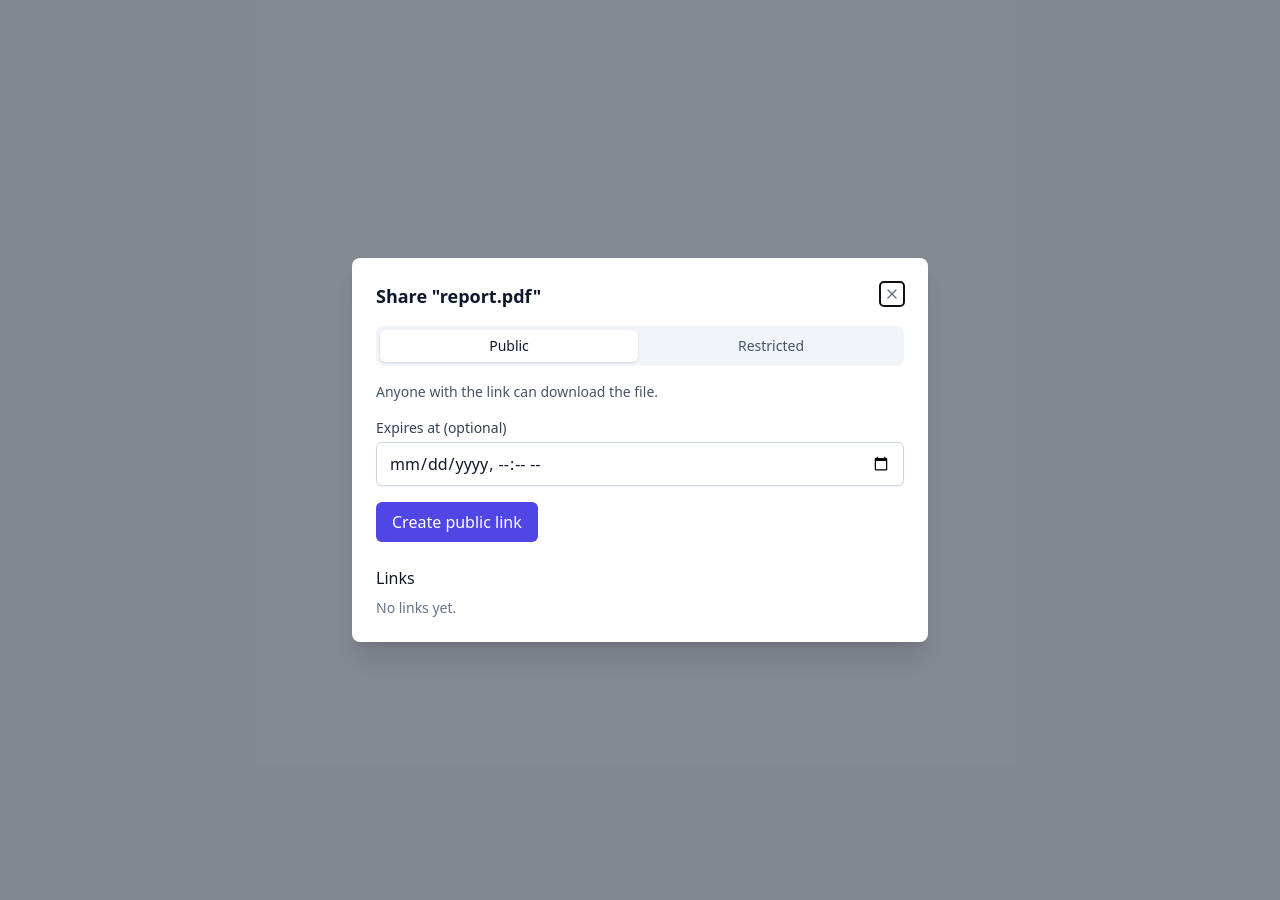
Test case: ShareDialog › creates a public link and shows its URL
Expected: the text "No links yet." is shown, [376,598,456,617]
Click the button "Create public link".
click(457, 522)  # box [376,502,538,542]
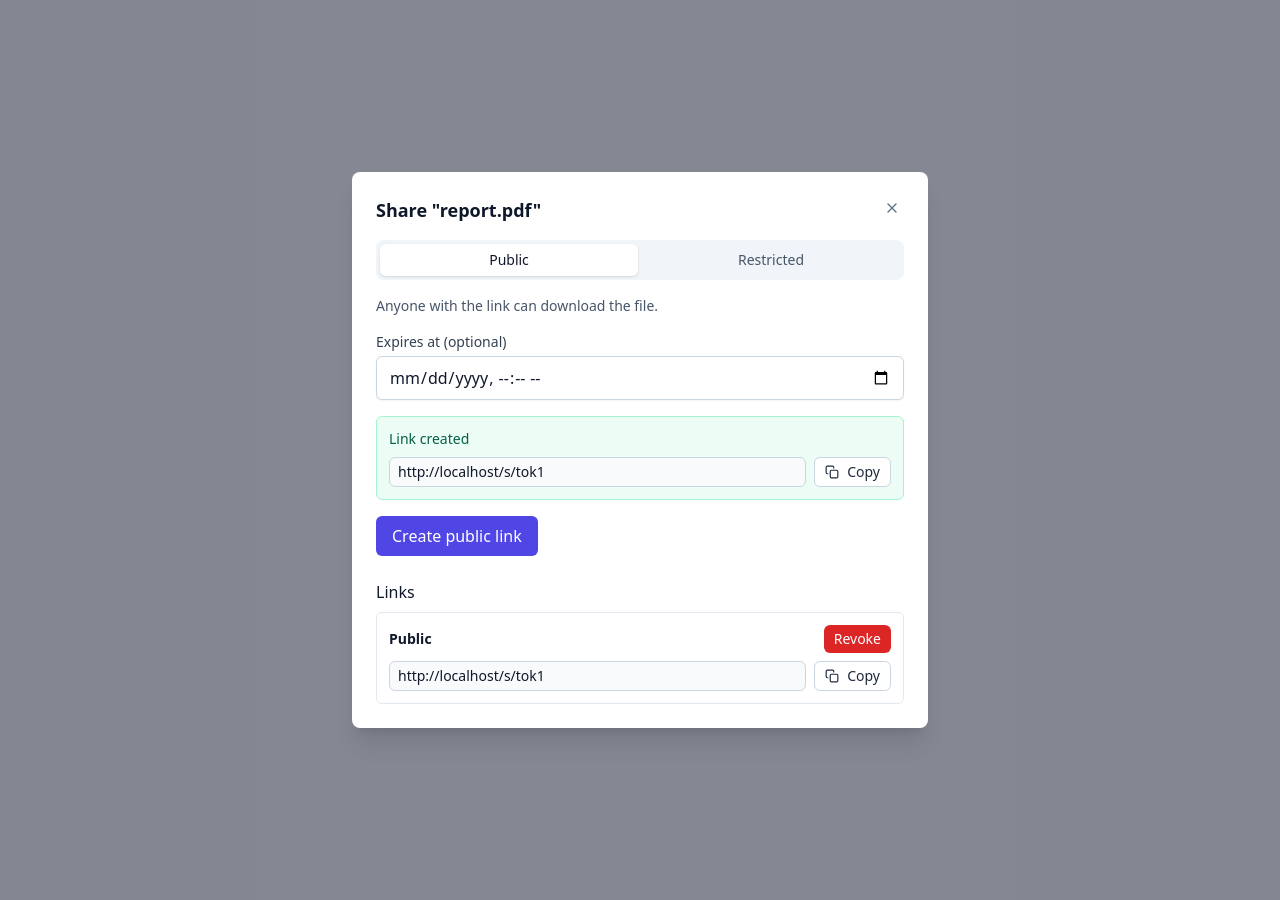
Now the text "Link created" is shown, box [389,429,469,448]
